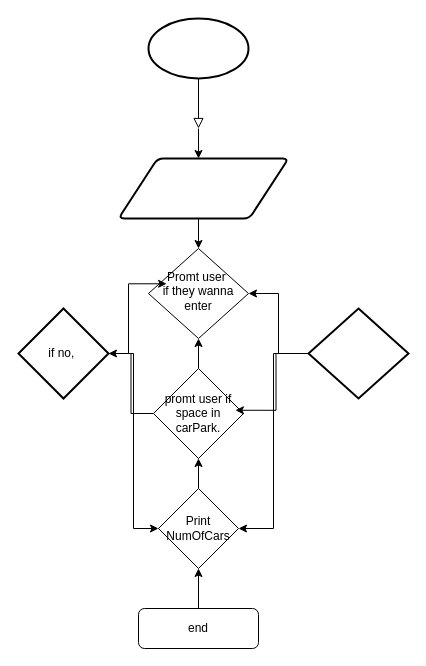
Image size: 426x666. Some labels were removed from this diagram. The centre of each missing label's shape, as x and y in pixels:
create variables numOfCars,carsLeft maxCars, parkSpace: pixel 203 188
if yes,: pixel 358 353
start: pixel 198 48
